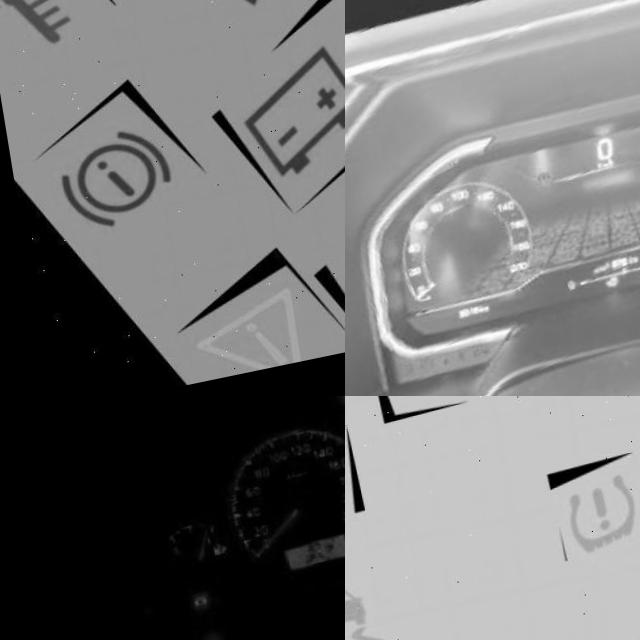Low fuel level: (601, 287, 616, 302), (192, 554, 204, 567)
